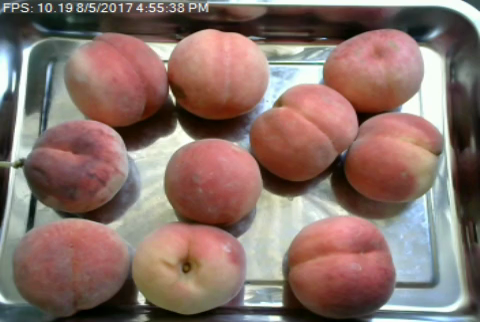Peach: (284, 214, 396, 319), (11, 217, 129, 316), (249, 82, 358, 182), (136, 222, 246, 316), (23, 117, 128, 213), (63, 32, 168, 127), (168, 26, 269, 120), (321, 25, 424, 114), (343, 112, 443, 203), (163, 137, 262, 226)
